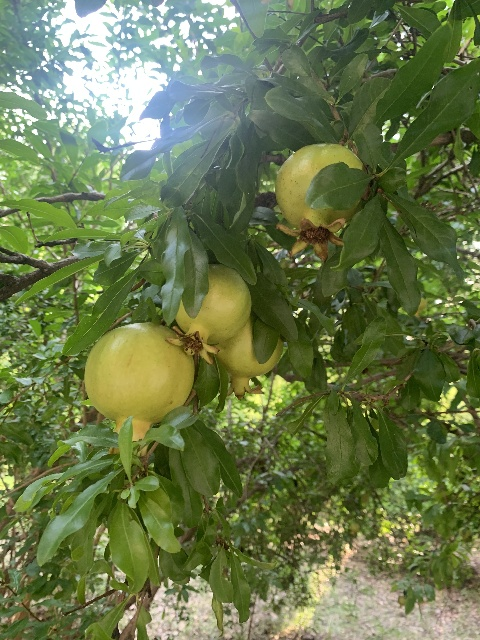mid-growth: (83, 322, 193, 456), (273, 141, 366, 262), (175, 264, 254, 365), (214, 317, 283, 399)
